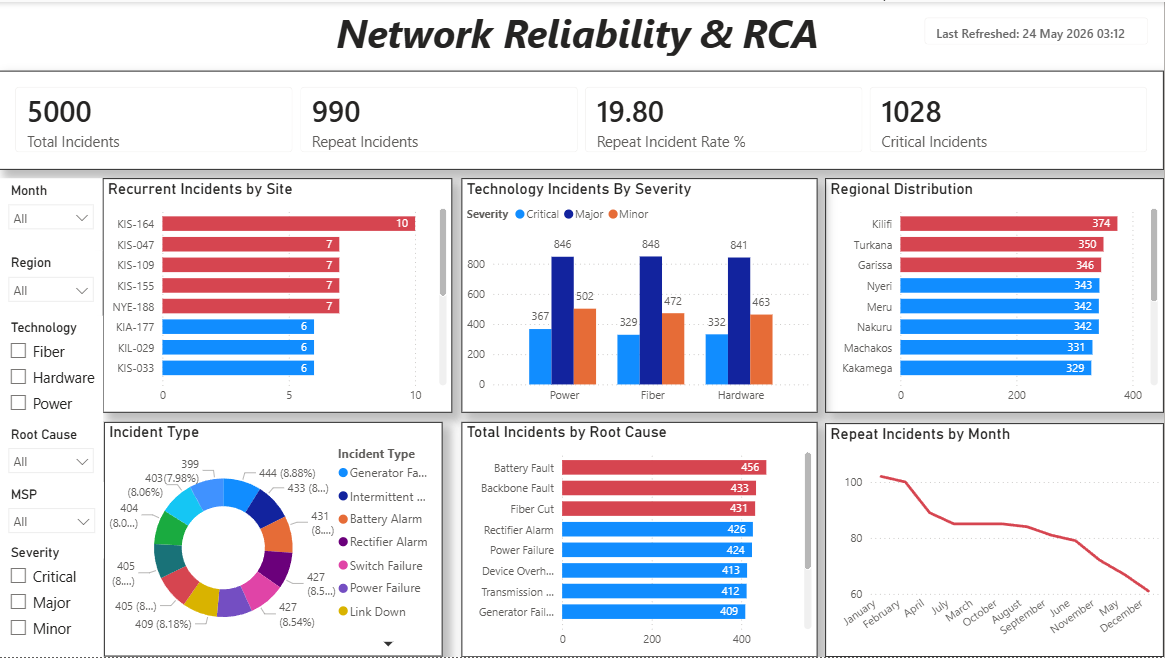

The page's visual inventory and layout, read from the dashboard file:
{"tool":"powerbi","page":{"name":"Network Reliability & RCA","canvas":[1280,720],"ordinal":0},"visuals":[{"type":"cardVisual","fields":{"Data":["incidents.Total Incidents","incidents.Repeat Incidents","incidents.Repeat Incident Rate %","incidents.Critical Incidents"]},"box":[0,75.5,1280.3,108.4],"z":0},{"type":"barChart","title":"Recurrent Incidents by Site","fields":{"Category":["incidents.Site Name"],"Y":["incidents.Total Incidents"]},"box":[113.9,193.5,384.2,258],"z":1000},{"type":"barChart","title":"Regional Distribution","fields":{"Y":["incidents.Total Incidents"],"Category":["incidents.County"]},"box":[908.4,193.5,371.9,258],"z":2000},{"type":"clusteredColumnChart","title":"Technology Incidents By Severity","fields":{"Series":["incidents.Severity"],"Category":["incidents.Technology Type"],"Y":["incidents.Total Incidents"]},"box":[507.7,193.5,391.1,258],"z":3000},{"type":"textbox","box":[0,0,1280.3,64.5],"z":4000},{"type":"slicer","fields":{"Values":["incidents.Month"]},"box":[0,193.5,113.9,79.6],"z":5000},{"type":"slicer","fields":{"Values":["incidents.Region"]},"box":[0,273.1,113.9,71.4],"z":6000},{"type":"donutChart","title":"Incident Type","fields":{"Y":["incidents.Total Incidents"],"Category":["incidents.Incident Type"]},"box":[115.5,461.8,372,258],"z":7000},{"type":"clusteredBarChart","fields":{"Category":["incidents.Root Cause"],"Y":["incidents.Total Incidents"]},"box":[508,462,391,258],"z":8000},{"type":"lineChart","fields":{"Category":["incidents.Month"],"Y":["incidents.Repeat Incidents"]},"box":[908,462.9,372.3,256.9],"z":9000},{"type":"slicer","fields":{"Values":["incidents.Technology Type"]},"box":[0,344.8,114,118.1],"z":10000},{"type":"slicer","fields":{"Values":["incidents.Root Cause"]},"box":[0,461.6,114,85.2],"z":11000},{"type":"slicer","fields":{"Values":["incidents.Assigned MSP"]},"box":[0,527.5,115.4,83.8],"z":12000},{"type":"slicer","fields":{"Values":["incidents.Severity"]},"box":[0,592.1,114,127.8],"z":13000},{"type":"cardVisual","fields":{"Data":["incidents.Last Refresh"]},"box":[1000,0,280.2,64.6],"z":14000}]}

Visuals, with their boxes in screenshot pixels (x1, y1, x2, y2), scaled from the page's 1280x720 canvas onto the 1165x658 screenshot:
cardVisual - incidents.Total Incidents x incidents.Repeat Incidents: region(0, 69, 1164, 168)
"Recurrent Incidents by Site" barChart: region(104, 177, 453, 413)
"Regional Distribution" barChart: region(827, 177, 1164, 413)
"Technology Incidents By Severity" clusteredColumnChart: region(462, 177, 818, 413)
textbox: region(0, 0, 1164, 59)
slicer - incidents.Month: region(0, 177, 104, 250)
slicer - incidents.Region: region(0, 250, 104, 315)
"Incident Type" donutChart: region(105, 422, 444, 657)
clusteredBarChart - incidents.Root Cause x incidents.Total Incidents: region(462, 422, 818, 657)
lineChart - incidents.Month x incidents.Repeat Incidents: region(826, 423, 1164, 657)
slicer - incidents.Technology Type: region(0, 315, 104, 423)
slicer - incidents.Root Cause: region(0, 422, 104, 500)
slicer - incidents.Assigned MSP: region(0, 482, 105, 559)
slicer - incidents.Severity: region(0, 541, 104, 657)
cardVisual - incidents.Last Refresh: region(910, 0, 1164, 59)
